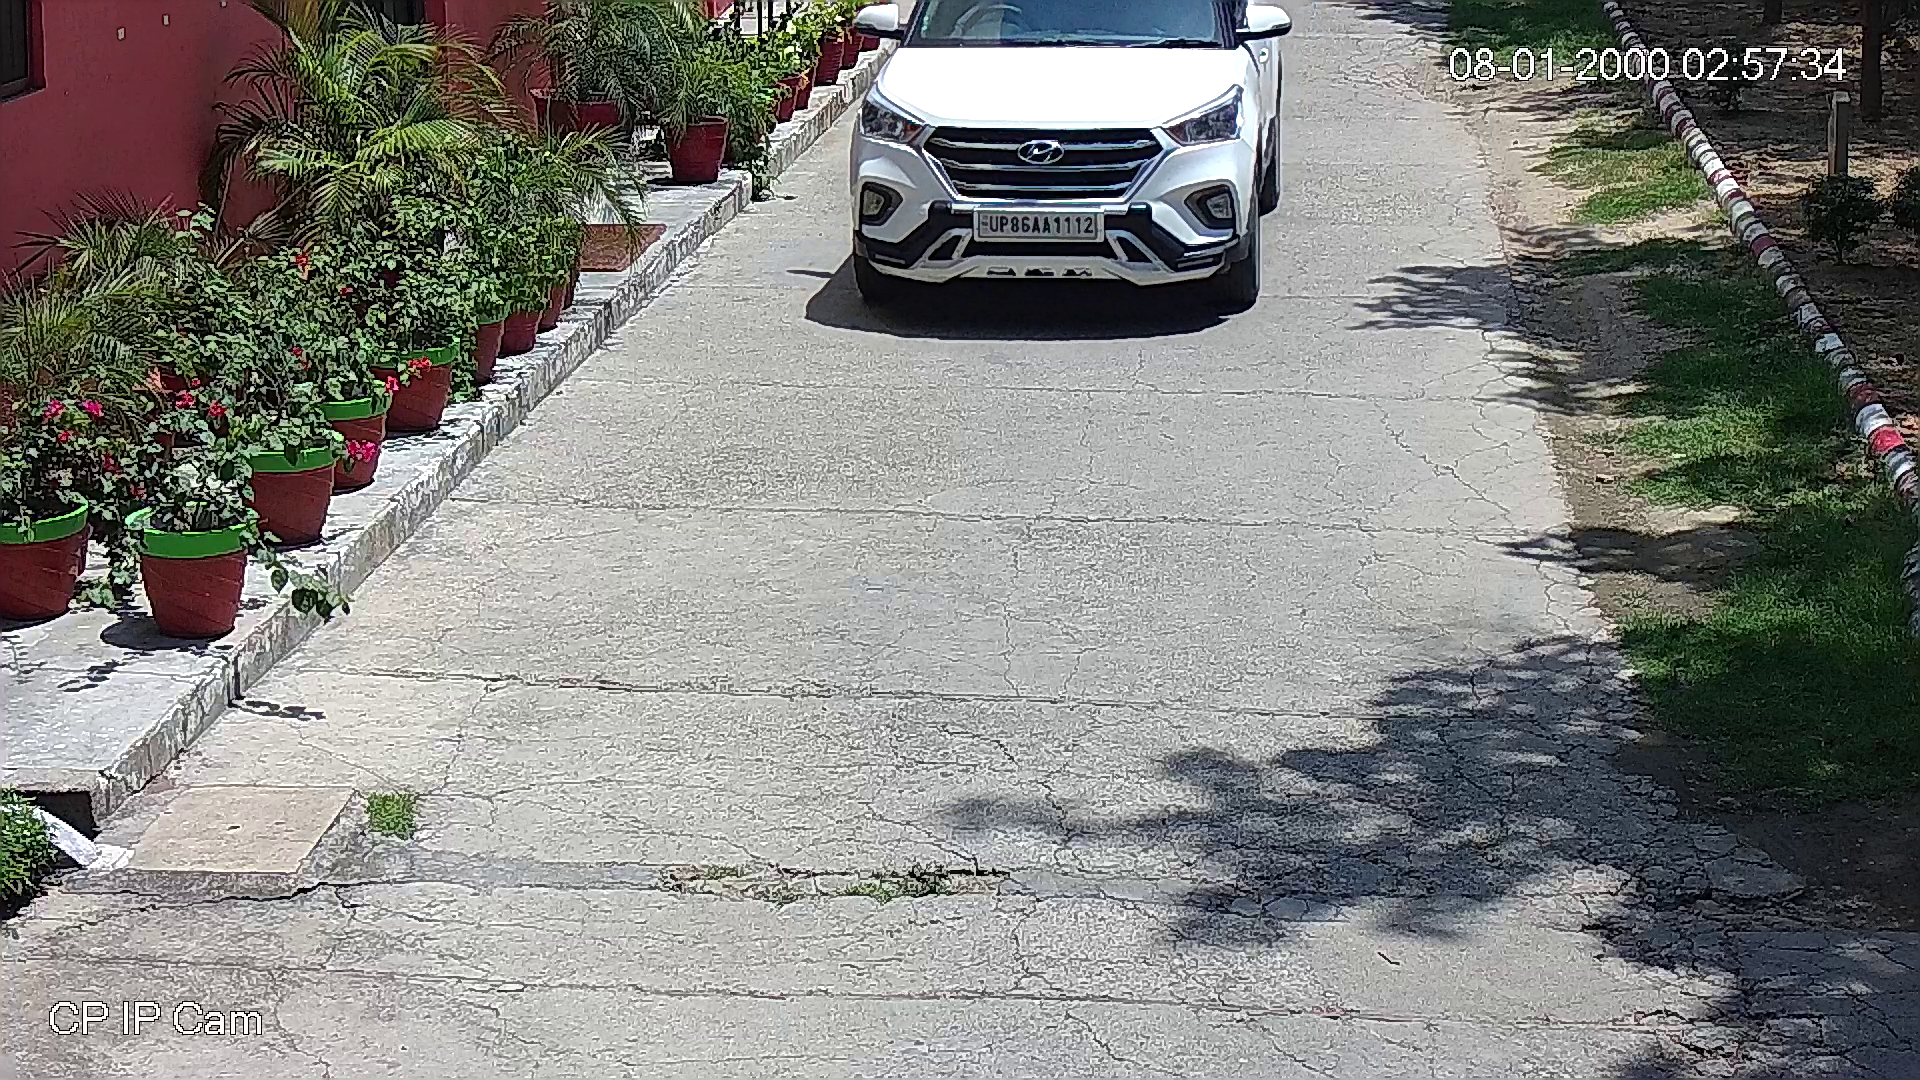plate: (968, 204, 1102, 245)
